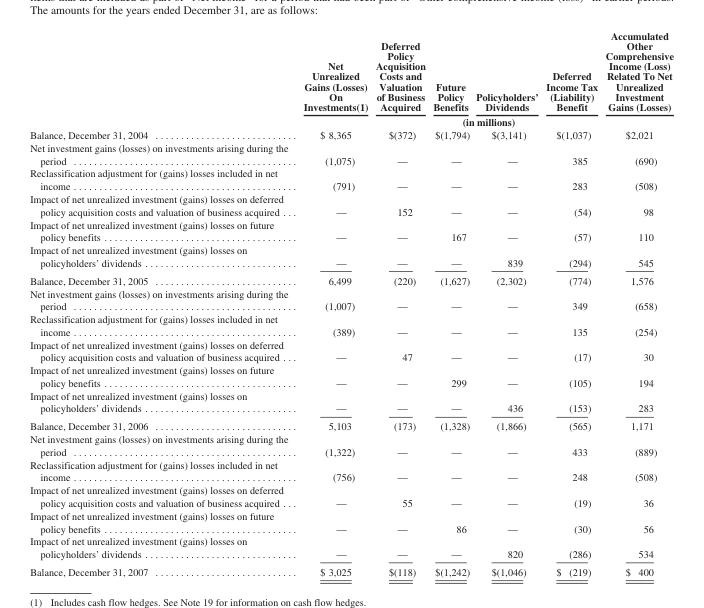table: (29, 29, 672, 577)
table column: (29, 29, 295, 577), (295, 29, 371, 577), (600, 29, 672, 577), (472, 29, 541, 577), (541, 29, 600, 577), (371, 29, 428, 577), (428, 29, 472, 577)
table column header: (29, 29, 672, 128)
table row: (29, 29, 672, 114), (29, 243, 672, 271), (29, 388, 672, 416), (29, 534, 672, 562), (29, 166, 672, 192), (29, 217, 672, 243), (29, 286, 672, 312), (29, 337, 672, 363), (29, 457, 672, 483), (29, 508, 672, 534), (29, 141, 672, 166), (29, 192, 672, 217), (29, 312, 672, 337), (29, 363, 672, 388), (29, 432, 672, 457), (29, 483, 672, 508), (29, 416, 672, 432), (29, 271, 672, 286), (29, 562, 672, 577), (29, 114, 672, 128), (29, 128, 672, 141)
table spanning cell: (295, 114, 672, 128)
